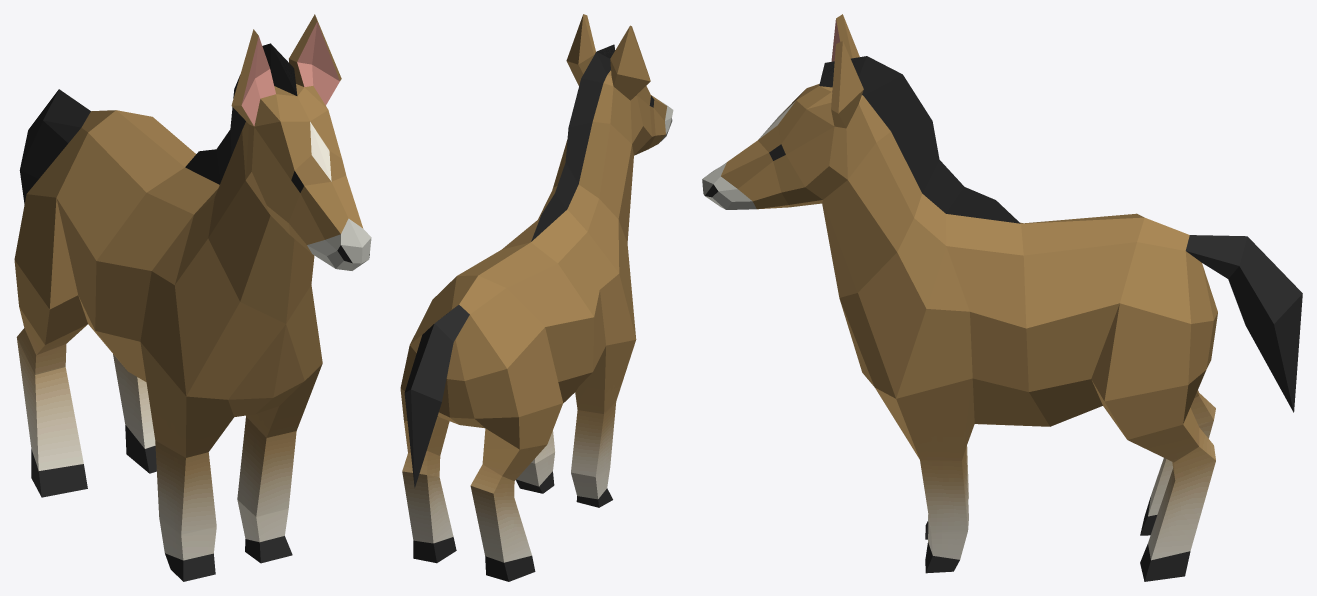
3 renders of one model, left to right at view 1: azimuth 30°, elevation 25°; view 2: azimuth 150°, elevation 25°; view 3: azimuth 270°, elevation 25°, orthographic. The views are drawn at different scales.
Visible parts, largest first — view 1: Geode; view 2: Geode; view 3: Geode.
Part boxes in pixels (x1,y1,x2,y2): Geode: (14, 14, 371, 581); Geode: (400, 14, 673, 581); Geode: (702, 14, 1302, 581).
Bounding box in the file's own units: 1.61 × 5.05 × 5.26.
1 material, 1 textured.
